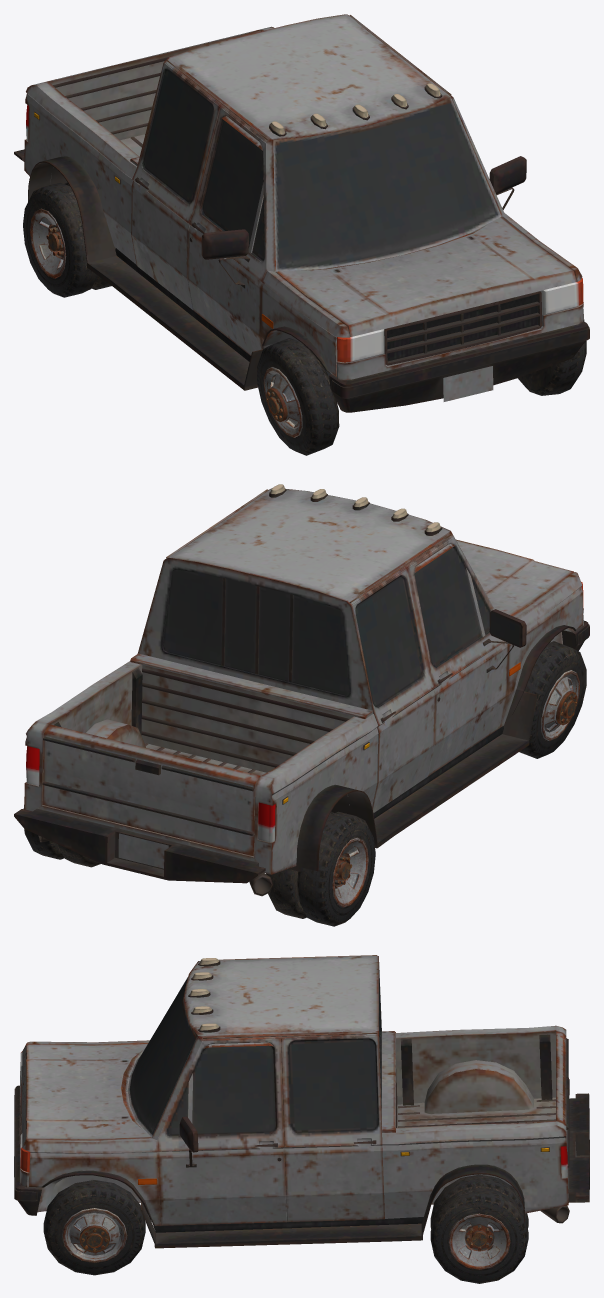
File: Car_01.fbx
3 views of the same model, one above another, from view 1: azimuth 30°, elevation 25°; view 2: azimuth 150°, elevation 25°; view 3: azimuth 270°, elevation 25° (orthographic). The views are drawn at different scales.
Parts seen in each view (by area): view 1: Car3_Main, Car3_Tires; view 2: Car3_Main, Car3_Tires; view 3: Car3_Main, Car3_Tires.
Boxes of the visible parts, bbox=[...] form: Car3_Main: bbox=[14, 14, 589, 412]; Car3_Tires: bbox=[23, 182, 586, 455]; Car3_Main: bbox=[14, 484, 589, 896]; Car3_Tires: bbox=[23, 641, 586, 926]; Car3_Main: bbox=[14, 955, 589, 1248]; Car3_Tires: bbox=[43, 1174, 528, 1283].
Bounding box in the file's own units: 0.5803 × 0.4605 × 1.04.
2 materials, 2 textured.
